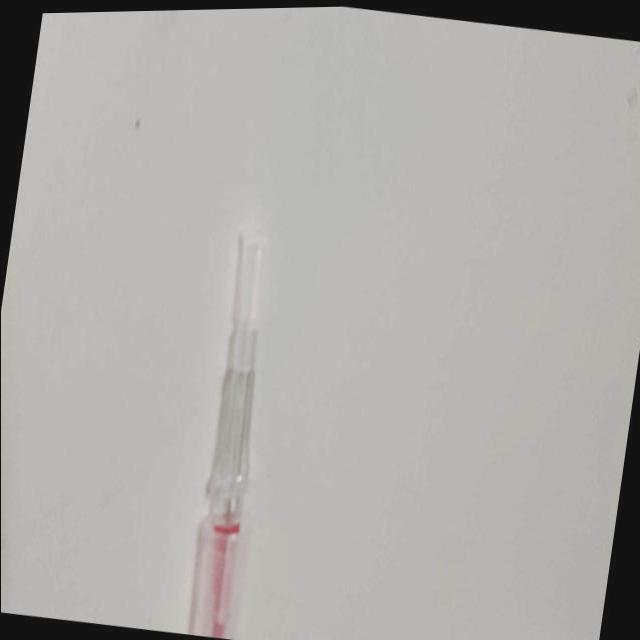General: (187, 513, 243, 639)
Pathological: (2, 7, 639, 639)
Sharps: (187, 230, 268, 639)
